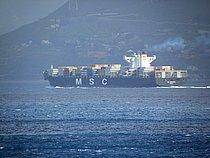Ship: (38, 47, 193, 92)
